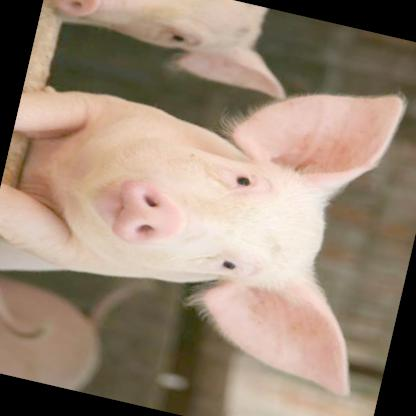Pig: (0, 10, 415, 410), (32, 0, 305, 105)
